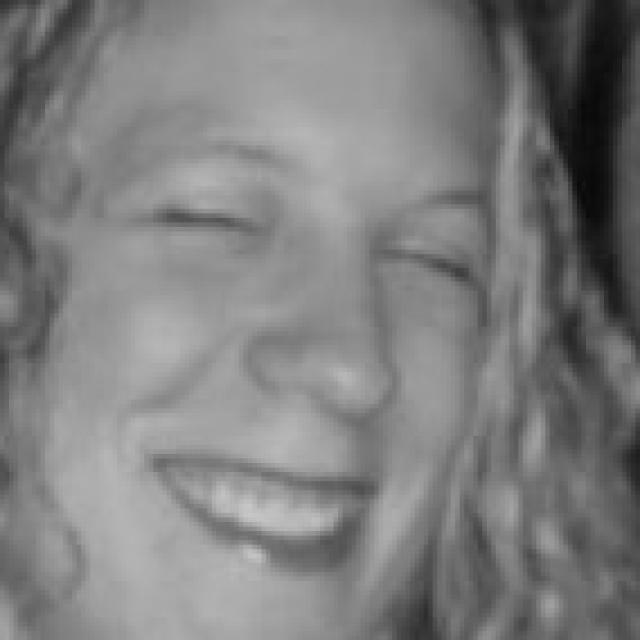real: (53, 0, 508, 611), (113, 162, 498, 306)
